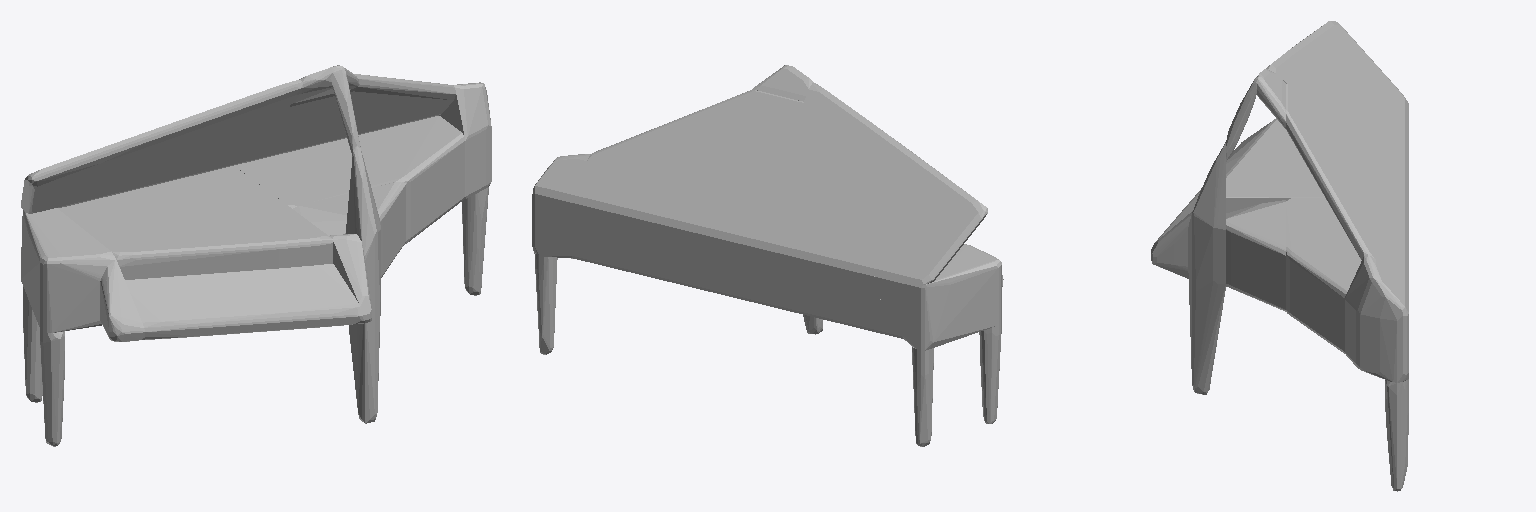
URDF robot description (root):
<?xml version="1.0"?>
<robot name="root">
  <link name="base_link">
    <visual>
      <origin xyz="0 0 0" rpy="0 0 0" />
      <geometry>
        <mesh filename="../meshes/unidex_sem_Piano-6a96d703d058790fa6491c91cd8d7770_006.obj" scale="1.0000E+00 1.0000E+00 1.0000E+00" />
      </geometry>
      <material name="">
        <color rgba="7.50E-01 7.50E-01 7.50E-01 1" />
      </material>
    </visual>
    <collision>
      <origin xyz="0 0 0" rpy="0 0 0" />
      <geometry>
        <mesh filename="../meshes/unidex_sem_Piano-6a96d703d058790fa6491c91cd8d7770_006.obj" scale="1.0000E+00 1.0000E+00 1.0000E+00" />
      </geometry>
    </collision>
  </link>
</robot>

--- Facts derived from the render (not from the file) ---
3 views of the same robot in one strip: view 1: azimuth 30°, elevation 25°; view 2: azimuth 150°, elevation 25°; view 3: azimuth 270°, elevation 25° (orthographic).
Model root with 1 links and 0 joints (none), rooted at base_link, posed every joint at zero.
Visible links, largest first — view 1: base_link; view 2: base_link; view 3: base_link.
Link boxes in pixels (x1,y1,x2,y2): base_link: (21,65,491,446); base_link: (532,65,1003,446); base_link: (1151,21,1408,491).
Size in the robot's own frame: 0.0943 by 0.0451 by 0.0612 metres.
Meshes: 1 distinct files referenced, 1 mesh visuals loaded (1 OBJ).
